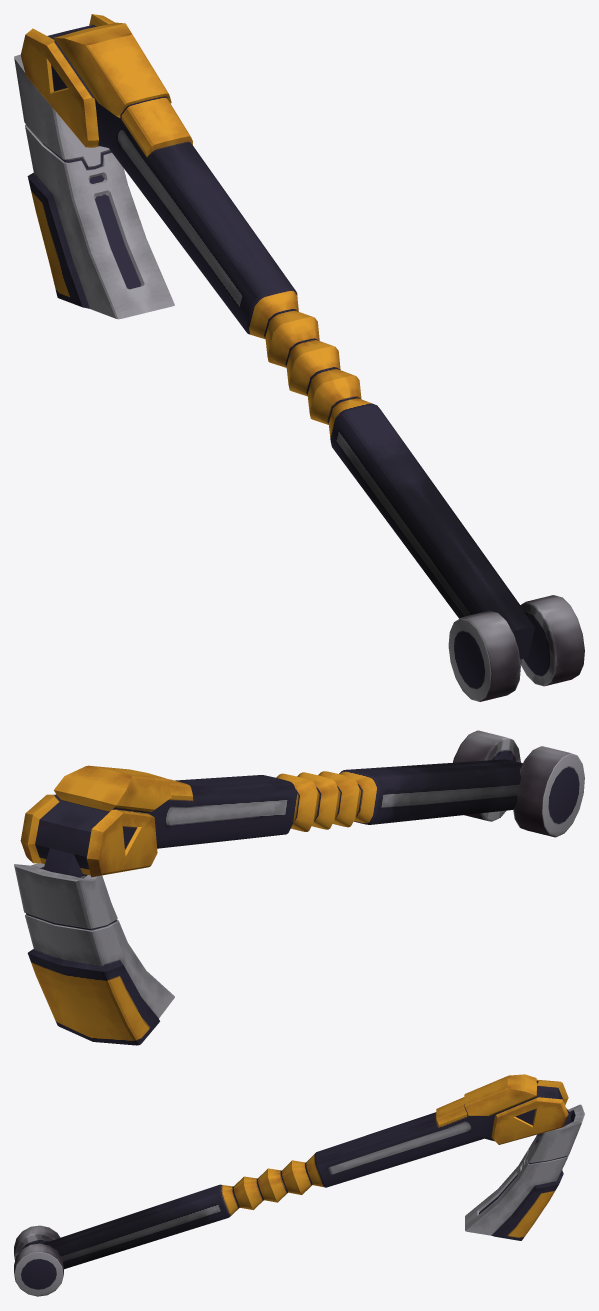
The model's file is Chariot03_tiechui_sunhui01.FBX.
3 views of the same model, one above another, from view 1: azimuth 30°, elevation 25°; view 2: azimuth 150°, elevation 25°; view 3: azimuth 270°, elevation 25° (orthographic). The views are drawn at different scales.
Visible parts, largest first — view 1: Chariot03_tiechui_sunhui01; view 2: Chariot03_tiechui_sunhui01; view 3: Chariot03_tiechui_sunhui01.
Part boxes in pixels (left/top/right/bottom): Chariot03_tiechui_sunhui01: left=14, top=14, right=584, bottom=701; Chariot03_tiechui_sunhui01: left=14, top=730, right=584, bottom=1045; Chariot03_tiechui_sunhui01: left=14, top=1074, right=584, bottom=1296.
Bounding box in the file's own units: 0.4857 × 1.72 × 4.41.
